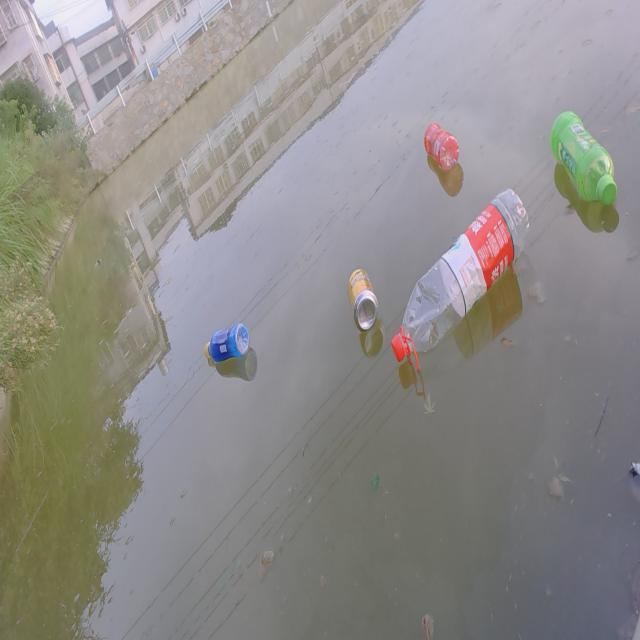bottle: (383, 180, 537, 370), (541, 96, 628, 224), (196, 300, 264, 373), (419, 116, 463, 174)
